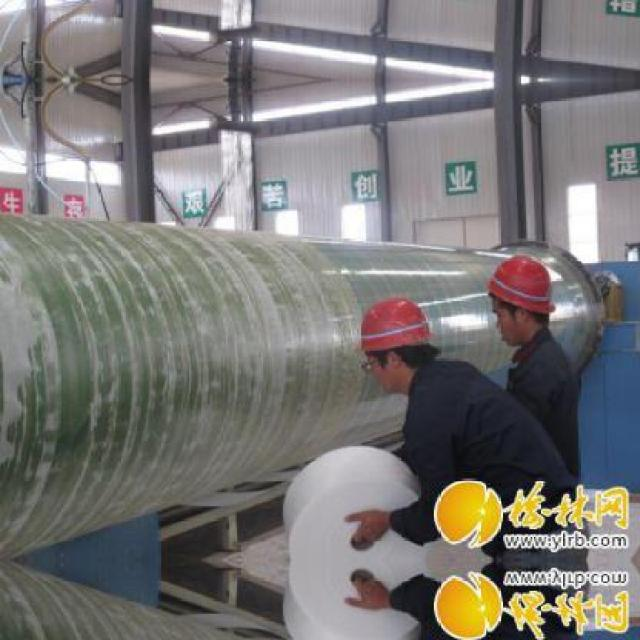helmet: (347, 285, 438, 398), (478, 246, 564, 352)
